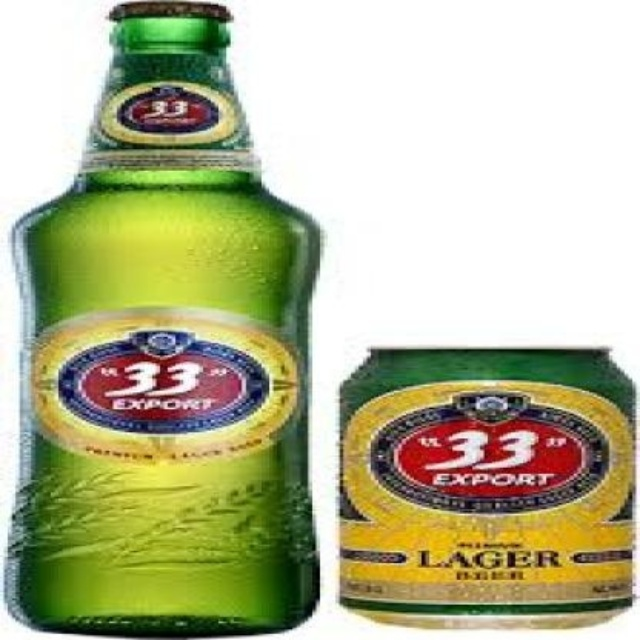trash: (8, 0, 318, 634), (340, 349, 634, 626)
